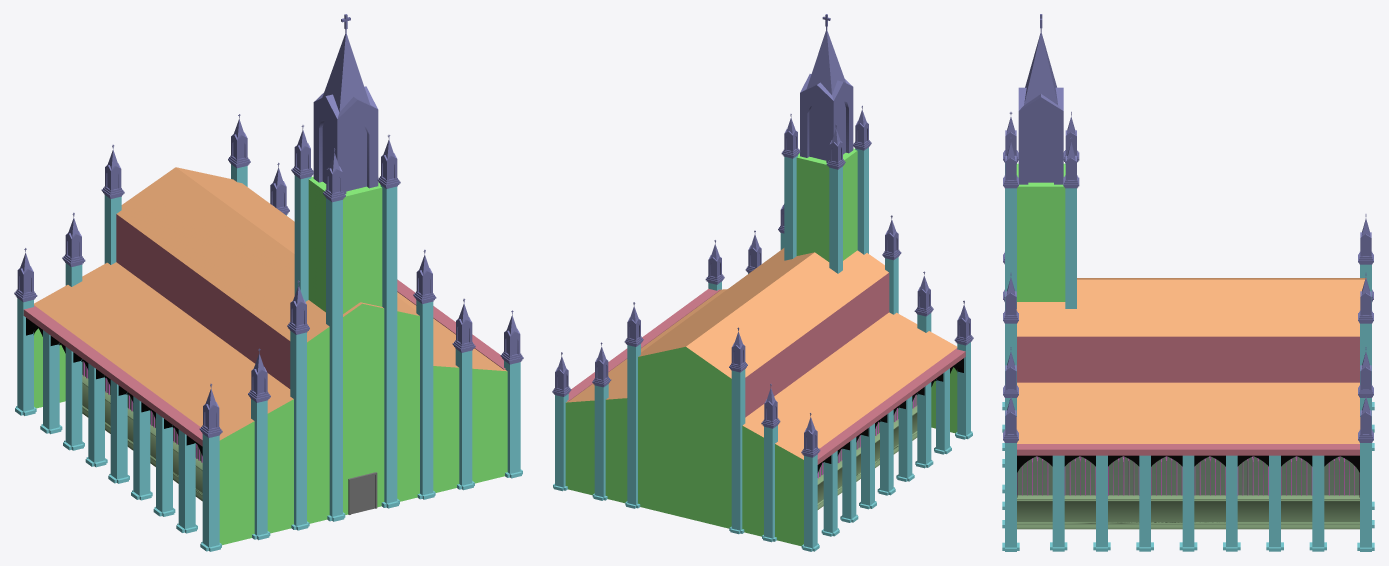
File: 외부만.fbx
3 views of the same model, side by side, from view 1: azimuth 30°, elevation 25°; view 2: azimuth 150°, elevation 25°; view 3: azimuth 270°, elevation 25° (orthographic). The views are drawn at different scales.
Visible parts, largest first — view 1: 기둥, 외벽1, 지붕, 십자, 외벽2, 외벽3, 문; view 2: 외벽1, 지붕, 기둥, 십자, 외벽2, 외벽3; view 3: 지붕, 외벽2, 기둥, 십자, 외벽3, 창문1, 외벽1, 창문2.
Boxes of the visible parts, x1,y1,x2,y2 form: 기둥: (15, 164, 522, 551); 외벽1: (34, 176, 507, 545); 지붕: (34, 167, 506, 440); 십자: (14, 14, 523, 437); 외벽2: (23, 214, 505, 455); 외벽3: (33, 326, 202, 501); 문: (348, 472, 377, 514); 외벽1: (565, 148, 957, 546); 지붕: (566, 248, 957, 459); 기둥: (553, 147, 972, 551); 십자: (552, 14, 973, 457); 외벽2: (567, 273, 965, 472); 외벽3: (817, 365, 957, 509); 지붕: (1016, 278, 1366, 443); 외벽2: (1017, 336, 1359, 472); 기둥: (1002, 163, 1374, 551); 십자: (1003, 14, 1373, 442); 외벽3: (1017, 473, 1359, 529); 창문1: (1017, 456, 1359, 495); 외벽1: (1016, 163, 1065, 301); 창문2: (1017, 456, 1359, 495).
Bounding box in the file's own units: 85.59 × 125 × 91.05.
